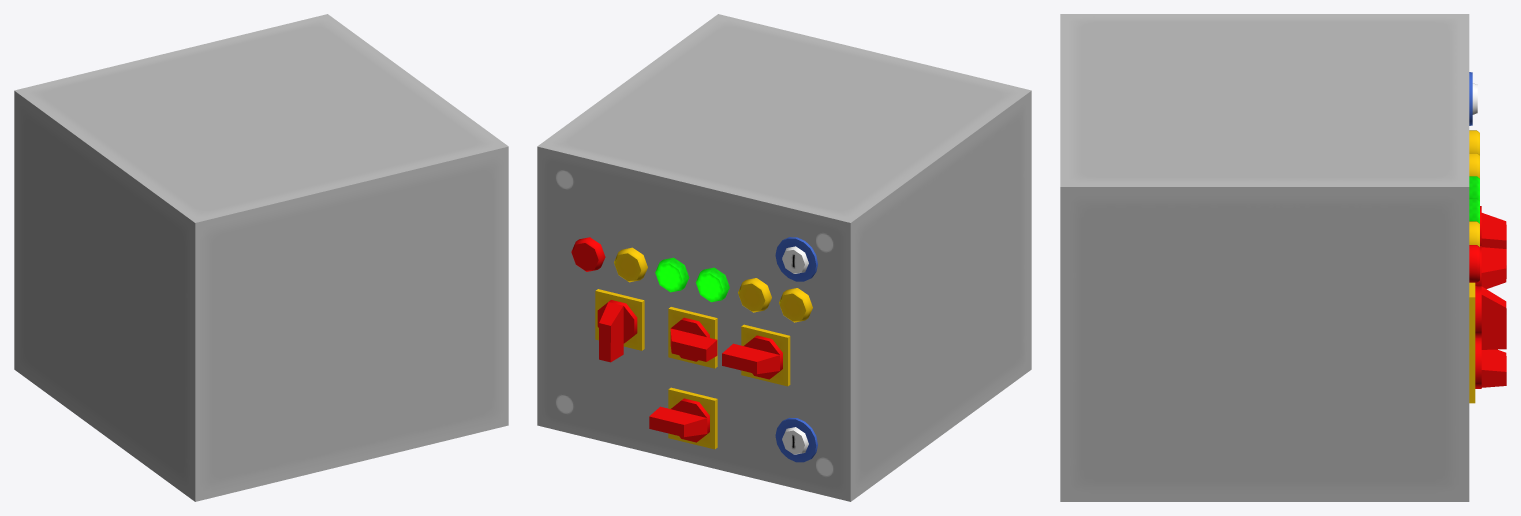
The model's file is Pfb_ElectricControlBox__6.fbx.
The picture shows the model from 3 angles, left to right: view 1: azimuth 30°, elevation 25°; view 2: azimuth 150°, elevation 25°; view 3: azimuth 270°, elevation 25°; orthographic projection. The views are drawn at different scales.
Parts seen in each view (by area): view 1: MAT_ElectricControlBox; view 2: MAT_ElectricControlBox; view 3: MAT_ElectricControlBox.
Part boxes in pixels (<box>): MAT_ElectricControlBox: <box>14,14,508,501</box>; MAT_ElectricControlBox: <box>537,14,1031,501</box>; MAT_ElectricControlBox: <box>1060,14,1506,501</box>.
Bounding box in the file's own units: 1 × 0.85 × 1.09.
1 material, 1 textured.
